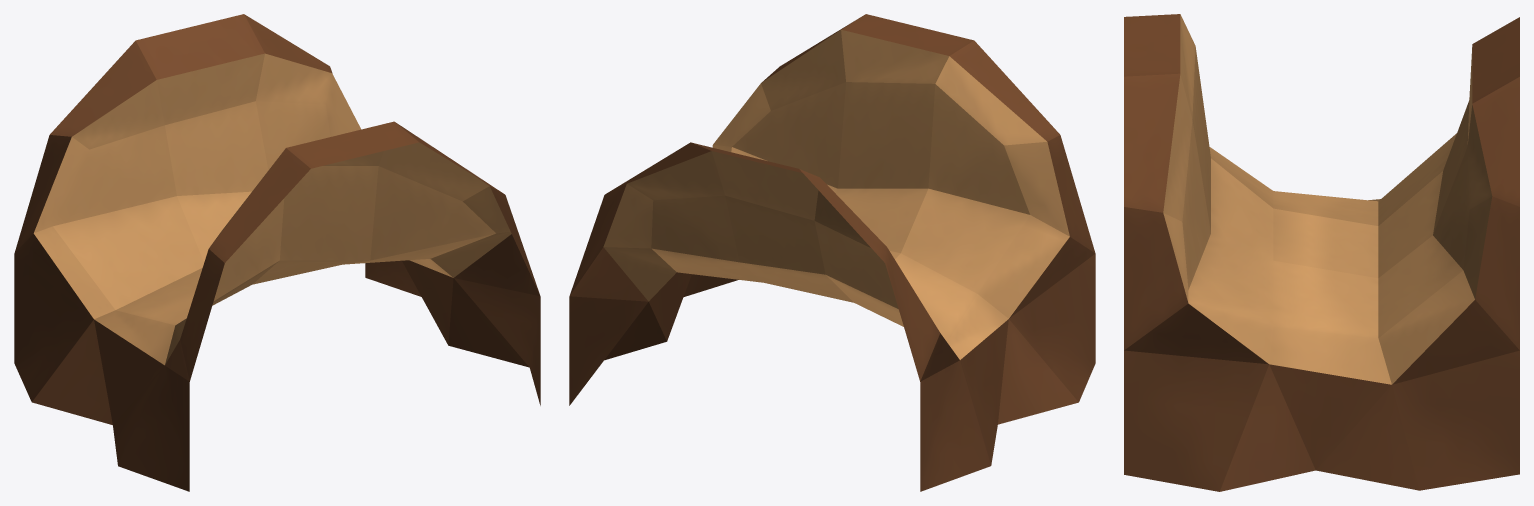
The model's file is Tronc_Perce_Creux.FBX.
The picture shows the model from 3 angles, left to right: view 1: azimuth 30°, elevation 25°; view 2: azimuth 150°, elevation 25°; view 3: azimuth 270°, elevation 25°; orthographic projection. The views are drawn at different scales.
Visible parts, largest first — view 1: TronPerce_Creux; view 2: TronPerce_Creux; view 3: TronPerce_Creux.
Part boxes in pixels (<box>): TronPerce_Creux: <box>14,14,540,491</box>; TronPerce_Creux: <box>569,14,1095,491</box>; TronPerce_Creux: <box>1124,14,1519,491</box>.
Size of the model in its own units: 2.34 by 1.61 by 1.73.
